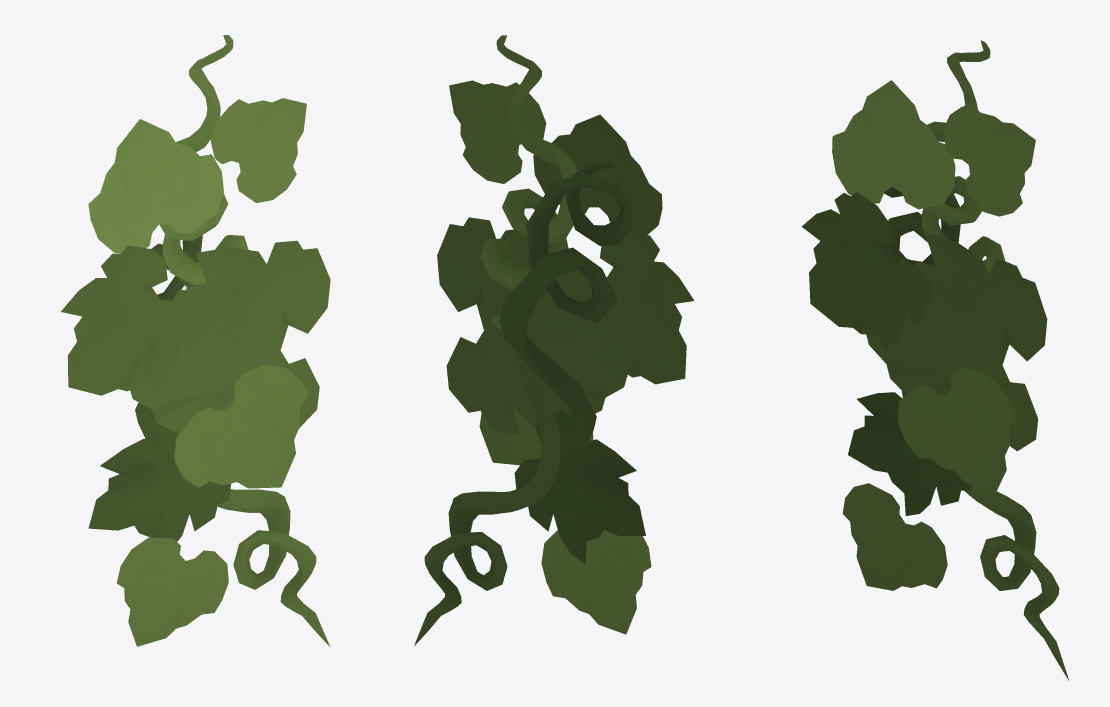
File: SM_Env_Plant_Leaves_02.fbx
3 renders of one model, left to right at view 1: azimuth 30°, elevation 25°; view 2: azimuth 150°, elevation 25°; view 3: azimuth 330°, elevation 25°, orthographic. The views are drawn at different scales.
Visible parts, largest first — view 1: SM_Env_Plant_Leaves_02; view 2: SM_Env_Plant_Leaves_02; view 3: SM_Env_Plant_Leaves_02.
Part boxes in pixels (x1,y1,x2,y2): SM_Env_Plant_Leaves_02: (61,35,330,646); SM_Env_Plant_Leaves_02: (414,35,694,645); SM_Env_Plant_Leaves_02: (802,40,1069,680).
Bounding box in the file's own units: 152 × 284 × 19.84.
